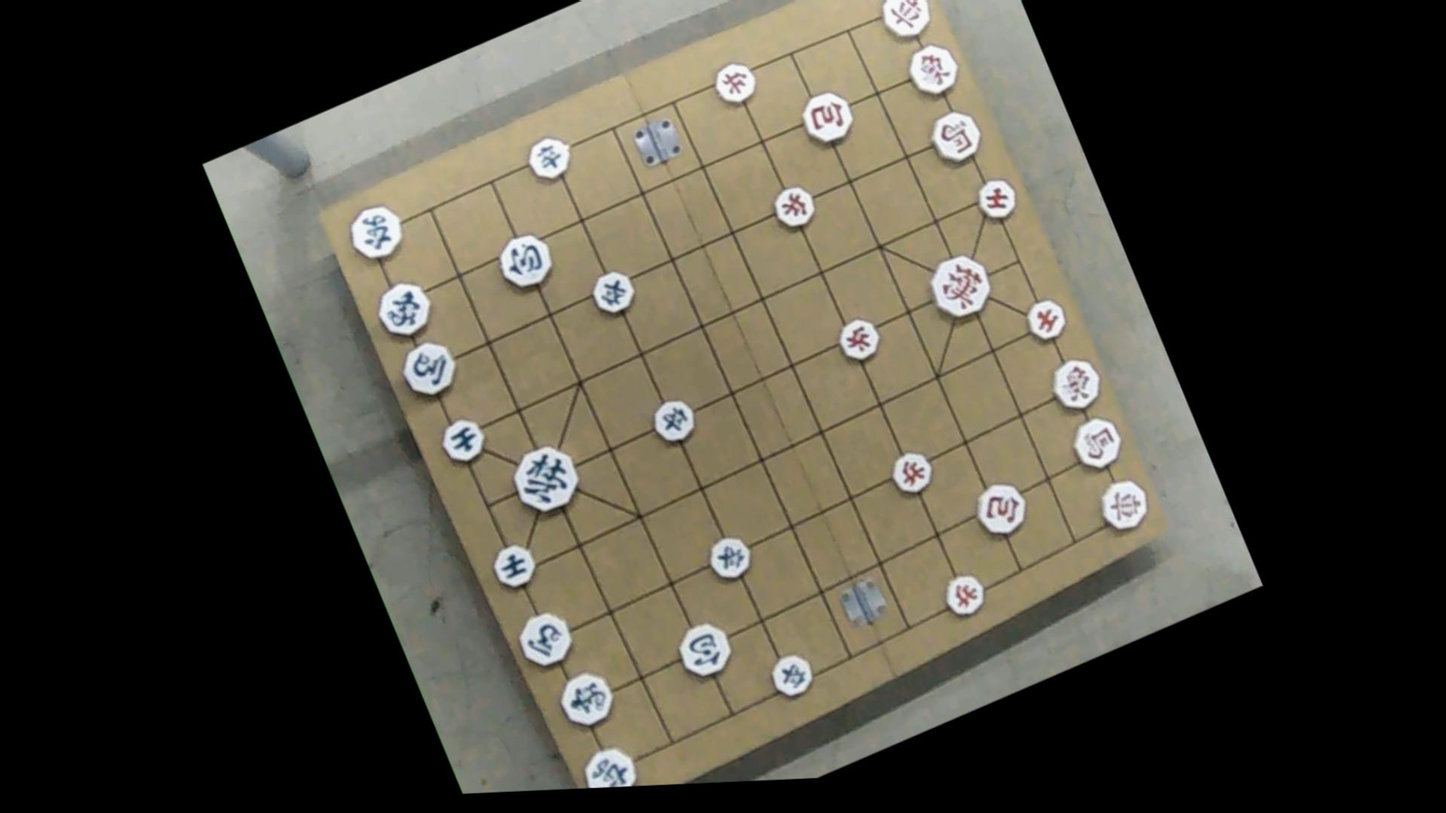cha_green: (340, 200, 410, 268), (575, 738, 640, 788)
cha_red: (1093, 471, 1155, 539), (877, 0, 936, 47)
jol_green: (701, 530, 753, 589), (645, 393, 697, 449), (585, 267, 636, 324), (766, 650, 817, 705), (523, 135, 574, 190)
jol_red: (885, 446, 935, 501), (768, 177, 817, 233), (711, 55, 760, 111), (832, 312, 882, 366), (940, 568, 988, 623)
ma_green: (396, 331, 462, 405), (512, 606, 578, 677)
ma_red: (925, 108, 987, 175), (1066, 412, 1125, 478)
po_green: (672, 617, 736, 686), (492, 227, 555, 296)
po_red: (970, 477, 1032, 544), (797, 88, 858, 154)
sa_green: (436, 411, 488, 468), (489, 539, 541, 595)
sa_red: (1022, 295, 1069, 349), (972, 172, 1018, 224)
sang_green: (553, 665, 618, 734), (373, 276, 438, 342)
sang_red: (899, 37, 963, 106), (1045, 355, 1106, 422)
wang_green: (505, 441, 581, 525)
wang_red: (920, 249, 994, 330)
